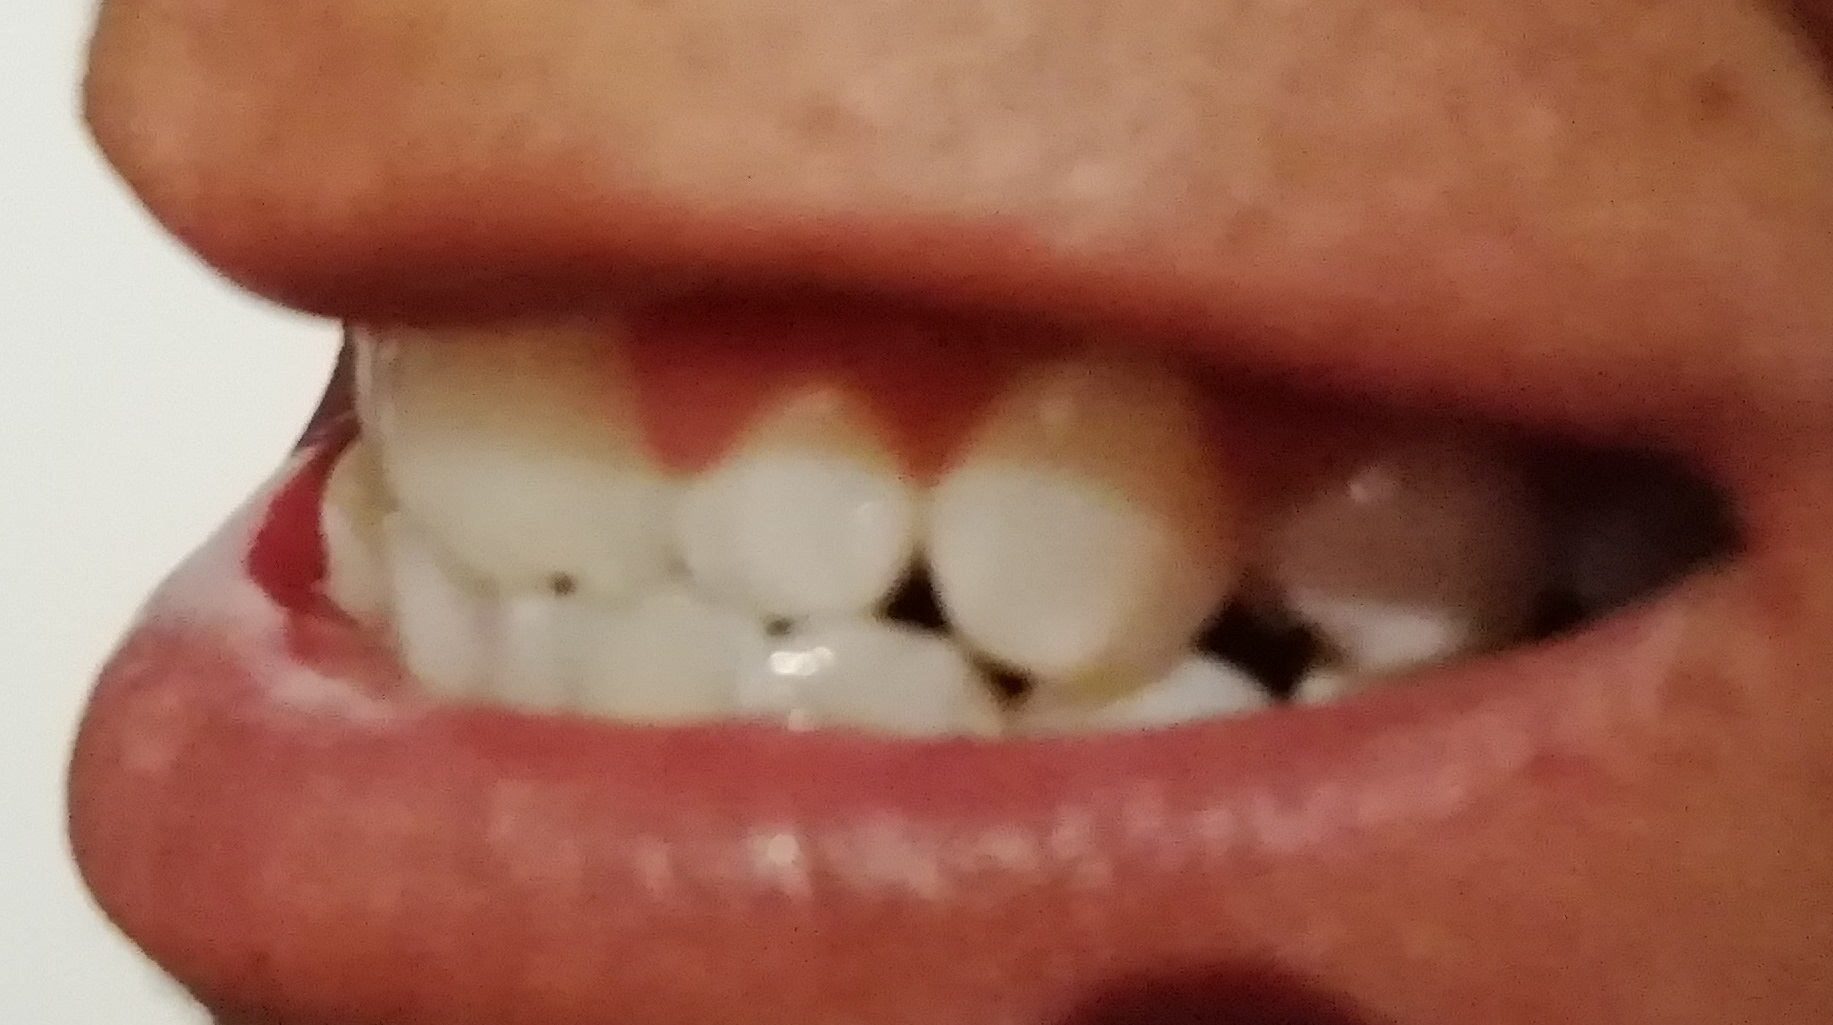boca: (308, 314, 1687, 748)
